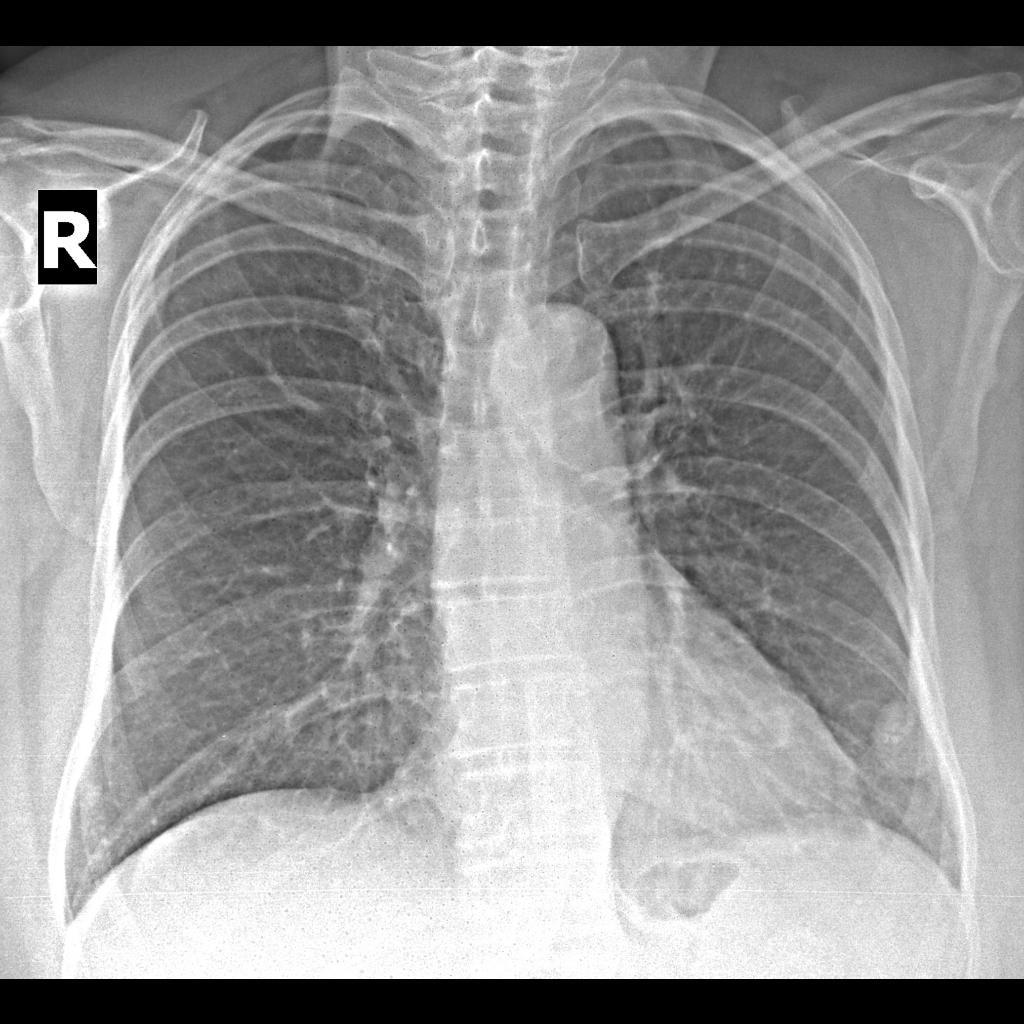Nodule: (859, 689, 951, 785)
